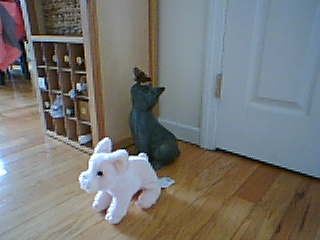piggy: (77, 135, 162, 225)
